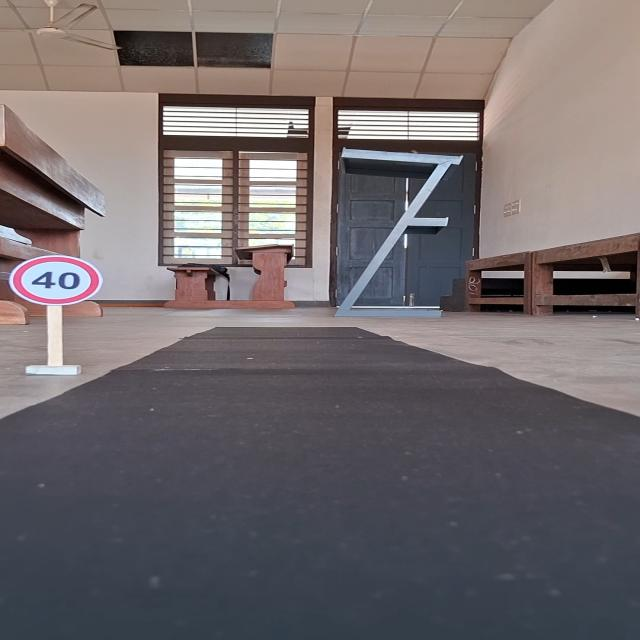Speed40: (7, 253, 105, 308)
